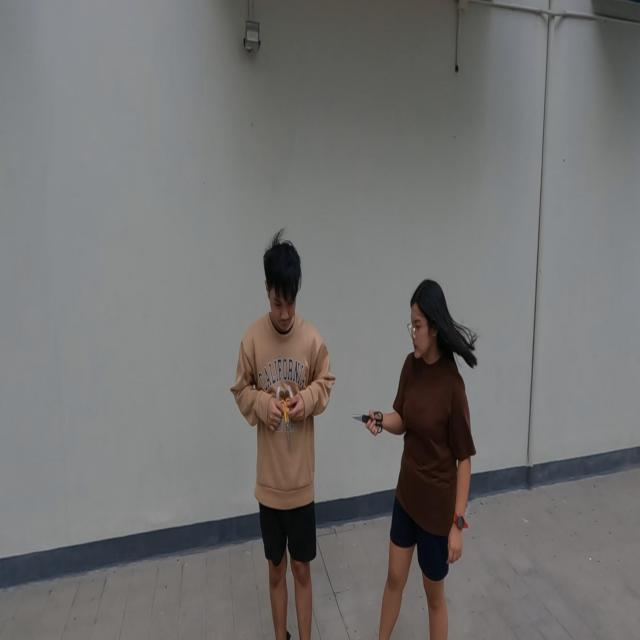scissor: (278, 397, 295, 450), (350, 412, 384, 434)
